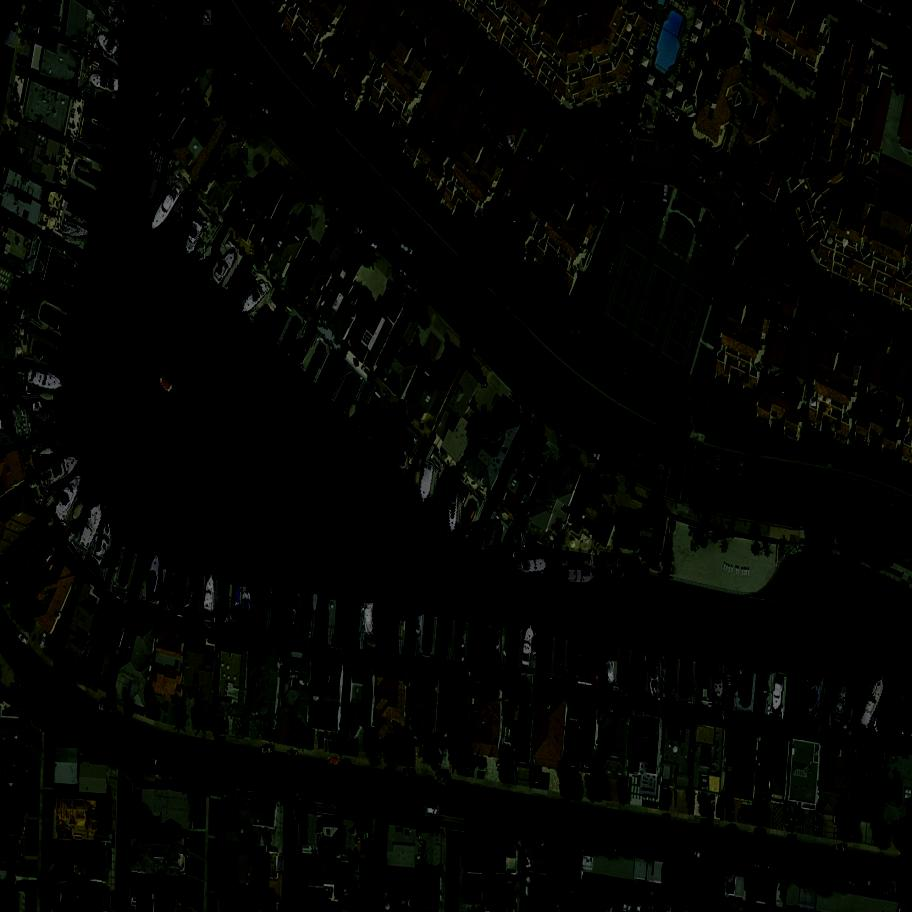large-vehicle: (5, 20, 23, 48), (367, 186, 388, 207), (396, 241, 418, 260), (434, 774, 453, 790)
ship: (145, 180, 188, 236), (39, 454, 88, 492), (859, 675, 891, 731), (54, 470, 87, 523), (76, 498, 107, 554), (237, 282, 274, 321), (90, 516, 117, 569), (211, 247, 241, 287), (182, 215, 207, 260), (28, 368, 70, 394), (805, 678, 828, 721), (831, 681, 852, 726), (146, 551, 164, 601), (419, 460, 437, 508), (646, 652, 663, 699), (87, 74, 123, 95), (94, 32, 122, 59), (521, 624, 537, 669), (518, 557, 551, 578), (60, 222, 96, 241), (485, 520, 502, 557), (163, 212, 185, 239), (449, 489, 461, 537), (157, 374, 180, 399), (771, 672, 785, 712), (712, 663, 726, 702), (566, 569, 598, 586), (168, 576, 185, 603), (107, 2, 124, 29), (204, 574, 216, 611), (197, 245, 217, 264), (68, 504, 86, 525), (364, 603, 376, 633), (242, 592, 253, 623), (738, 675, 752, 699), (290, 340, 306, 360), (176, 191, 191, 211), (193, 573, 205, 597), (682, 674, 694, 696), (607, 661, 618, 685), (47, 317, 63, 333), (532, 638, 544, 658), (524, 535, 539, 551), (86, 130, 103, 144), (363, 639, 380, 653), (610, 568, 627, 582), (89, 48, 104, 63), (39, 447, 55, 461), (76, 162, 93, 175), (96, 94, 114, 106), (515, 530, 522, 560), (32, 348, 47, 362), (762, 674, 772, 695), (40, 391, 56, 404), (668, 673, 678, 693), (347, 402, 358, 420), (846, 707, 856, 725), (185, 591, 195, 609), (457, 631, 466, 650), (660, 658, 669, 677), (400, 450, 409, 469), (62, 261, 78, 271), (193, 597, 202, 614), (289, 608, 297, 627), (35, 415, 53, 423), (415, 616, 422, 636), (312, 594, 319, 614), (725, 671, 733, 685), (33, 402, 44, 412), (236, 588, 241, 608), (496, 631, 500, 652), (324, 600, 328, 619), (829, 687, 833, 704), (145, 180, 150, 193), (394, 623, 397, 640)
small-vehicle: (461, 336, 482, 354), (96, 703, 118, 718), (392, 266, 410, 284), (243, 72, 260, 90), (255, 103, 274, 119), (15, 632, 32, 648), (586, 448, 604, 463), (566, 385, 582, 401), (230, 65, 243, 84), (438, 69, 453, 85), (418, 291, 434, 306), (236, 149, 250, 166), (290, 802, 301, 823), (335, 205, 350, 220), (867, 879, 883, 893), (699, 819, 715, 833), (619, 121, 633, 137), (244, 30, 257, 47), (883, 881, 898, 895), (213, 736, 228, 749), (749, 860, 764, 873), (401, 768, 416, 780), (710, 843, 725, 855), (202, 10, 214, 25), (407, 280, 420, 293), (624, 107, 638, 119), (425, 807, 440, 818), (351, 225, 366, 236), (521, 152, 536, 163), (744, 805, 753, 823), (661, 813, 674, 825), (688, 849, 702, 860), (753, 828, 767, 839), (290, 855, 299, 871), (505, 136, 516, 149), (277, 857, 286, 872), (663, 184, 670, 203), (736, 198, 743, 215), (262, 746, 275, 755), (646, 183, 653, 199), (329, 757, 340, 767), (40, 633, 47, 648), (318, 732, 324, 749), (779, 324, 790, 333), (726, 827, 739, 834), (787, 834, 796, 844), (837, 844, 847, 853), (459, 84, 470, 92), (291, 872, 296, 886), (300, 212, 310, 219), (741, 805, 745, 821), (288, 751, 298, 757), (342, 760, 351, 766)
